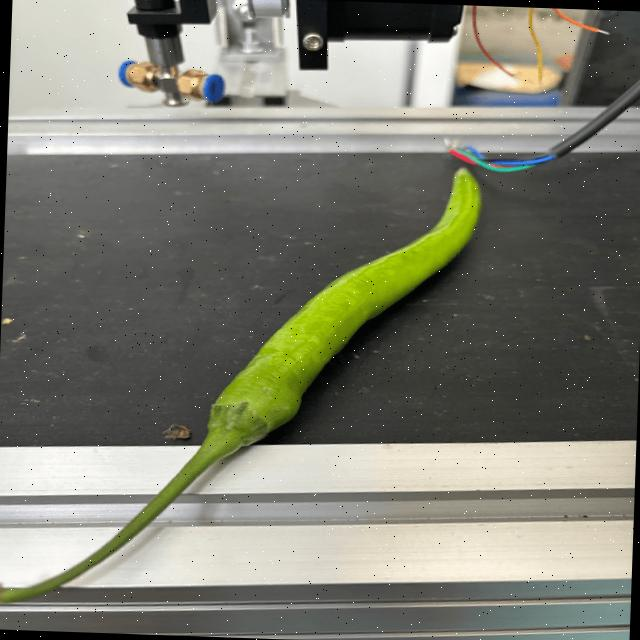chili: (205, 165, 484, 447)
